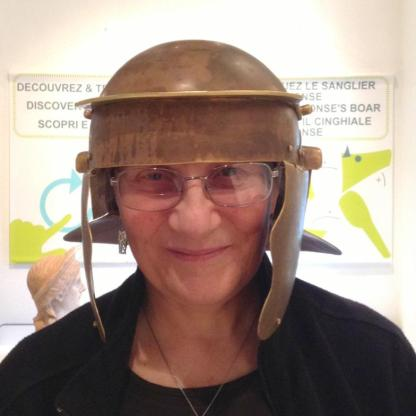Helmet: (80, 28, 310, 296)
